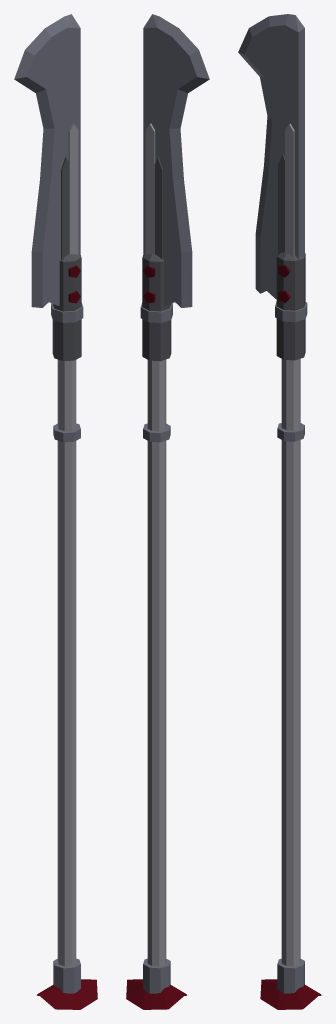
Rendered from Lanca_B23.fbx.
3 views of the same model, side by side, from view 1: azimuth 30°, elevation 25°; view 2: azimuth 150°, elevation 25°; view 3: azimuth 330°, elevation 25° (orthographic).
Parts seen in each view (by area): view 1: polearm_23; view 2: polearm_23; view 3: polearm_23.
Boxes of the visible parts, x1,y1,x2,y2 form: polearm_23: [14, 14, 97, 1009]; polearm_23: [126, 14, 209, 1009]; polearm_23: [238, 14, 321, 1009].
Size of the model in its own units: 18.34 by 209 by 10.25.
